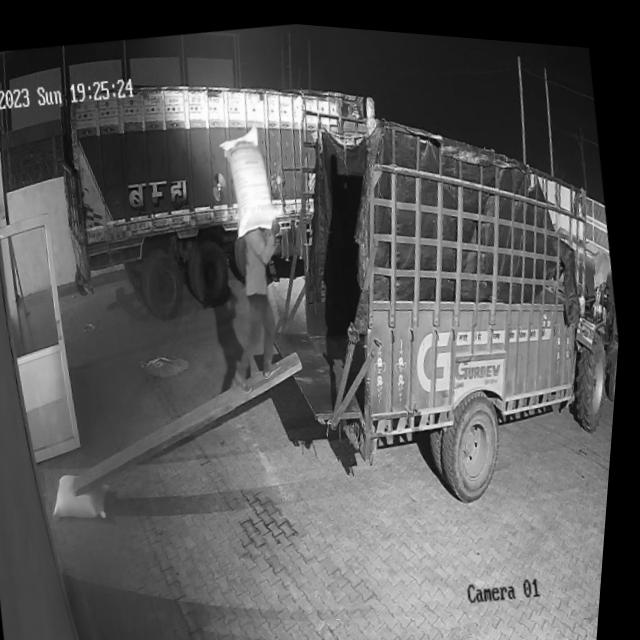sack: (214, 117, 283, 238), (55, 465, 119, 523)
